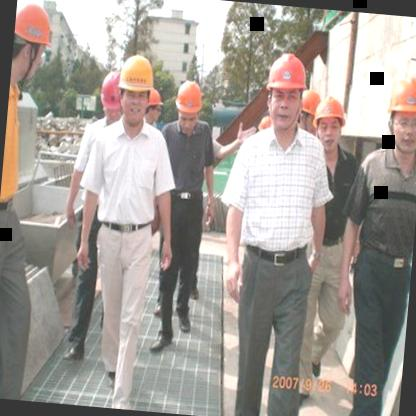helmet: (262, 50, 310, 132), (10, 0, 56, 81), (115, 51, 156, 126), (381, 72, 416, 155), (312, 90, 350, 154), (174, 80, 207, 130), (98, 74, 126, 123), (298, 90, 324, 138), (142, 87, 164, 126)
